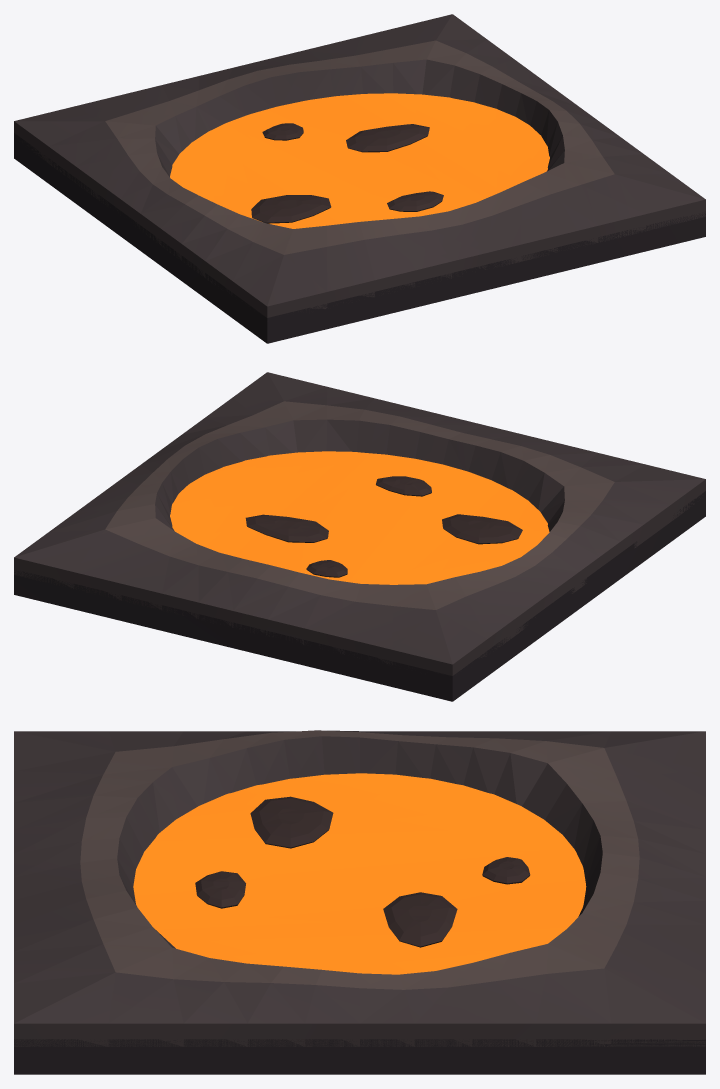
File: Environment_Volcano_LavaPool8m_001.glb
The picture shows the model from 3 angles, top to bottom: view 1: azimuth 30°, elevation 25°; view 2: azimuth 150°, elevation 25°; view 3: azimuth 270°, elevation 25°; orthographic projection. The views are drawn at different scales.
Visible parts, largest first — view 1: VC_LavaPool8m_Body; view 2: VC_LavaPool8m_Body; view 3: VC_LavaPool8m_Body.
Boxes of the visible parts, <box> form: VC_LavaPool8m_Body: <box>14,14,705,343</box>; VC_LavaPool8m_Body: <box>14,372,705,701</box>; VC_LavaPool8m_Body: <box>14,730,705,1074</box>.
Size of the model in its own units: 8 by 0.965 by 8.
